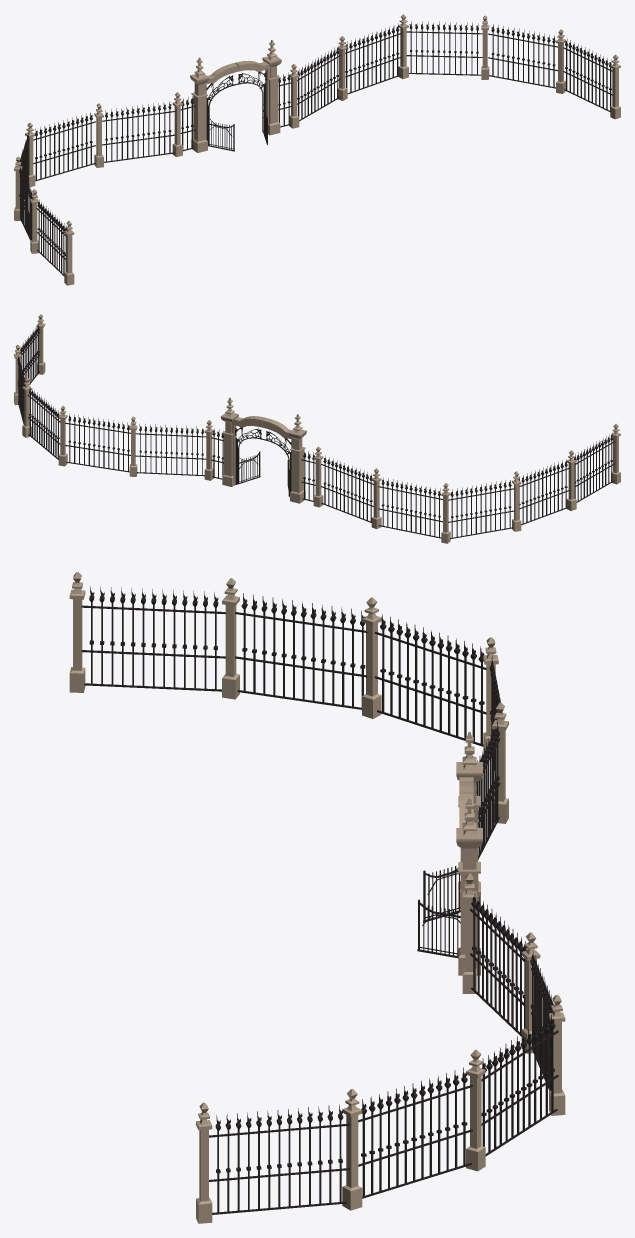
File: cemetaryWall_overallB.gltf
The picture shows the model from 3 angles, top to bottom: view 1: azimuth 30°, elevation 25°; view 2: azimuth 150°, elevation 25°; view 3: azimuth 270°, elevation 25°; orthographic projection. The views are drawn at different scales.
Visible parts, largest first — view 1: overallCemetaryWallB; view 2: overallCemetaryWallB; view 3: overallCemetaryWallB.
Part boxes in pixels (bbox=[...]): overallCemetaryWallB: bbox=[14, 14, 620, 285]; overallCemetaryWallB: bbox=[14, 314, 620, 543]; overallCemetaryWallB: bbox=[69, 572, 565, 1223].
Size of what is drawn, in the model's own units: 30.9 by 4.62 by 12.04.
1 material, 1 textured.
